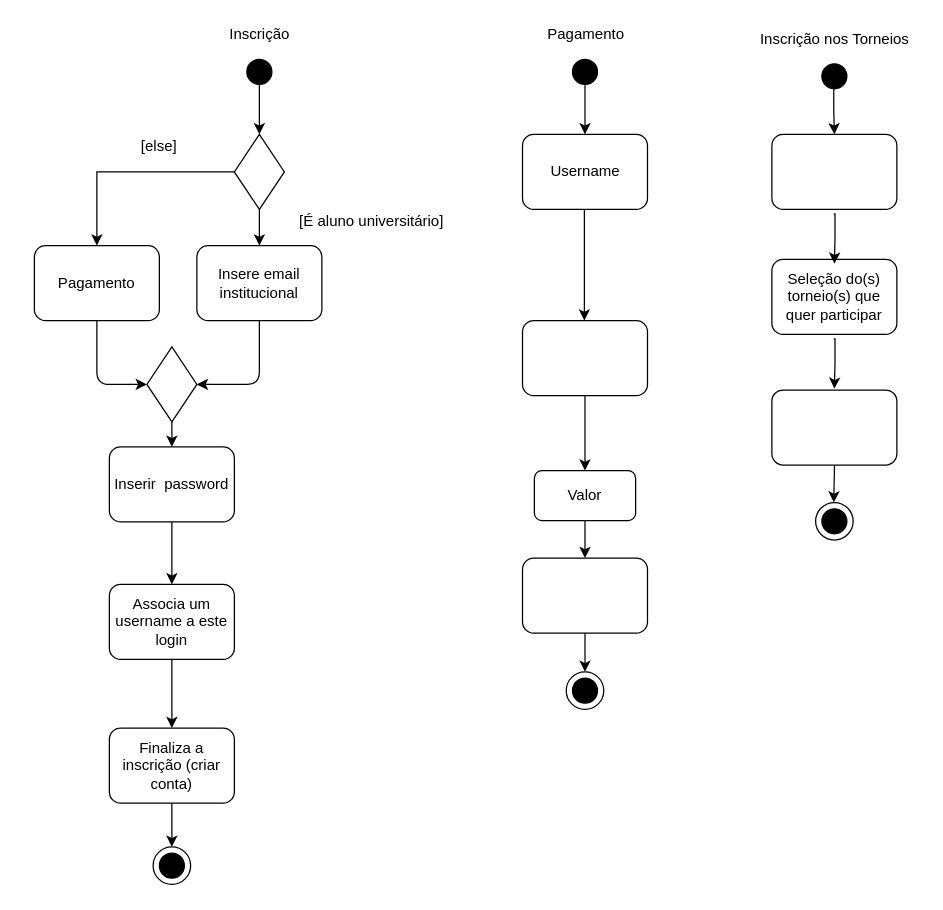
The diagram is 943 pixels wide and 910 high, and some of its shapes have lost their labels. Each missing label, with the box of its shape:
Ato de pagamento: (521, 557, 648, 633)
Finalização da Inscrição no torneio: (771, 389, 897, 465)
Inserção de dados do utilizador(IGN, Team Name, ...): (771, 133, 897, 209)
Método de pagamento: (521, 319, 648, 396)
